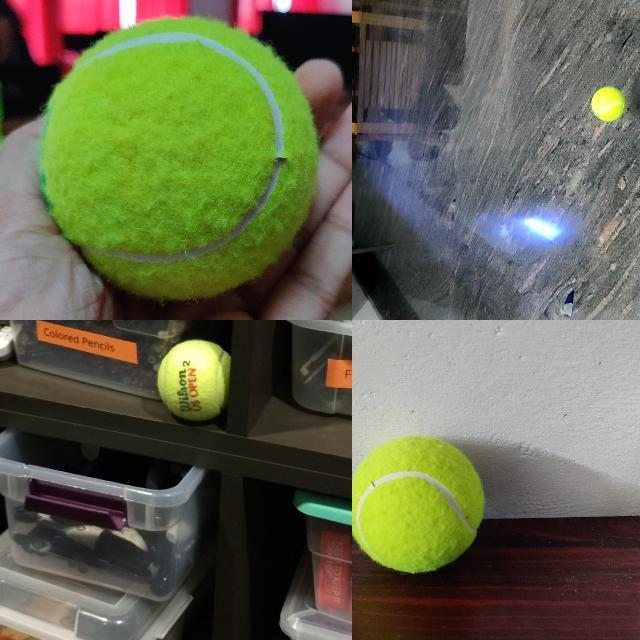tennis-ball: (38, 17, 318, 302), (352, 435, 485, 574), (156, 338, 226, 420), (590, 86, 626, 122)
